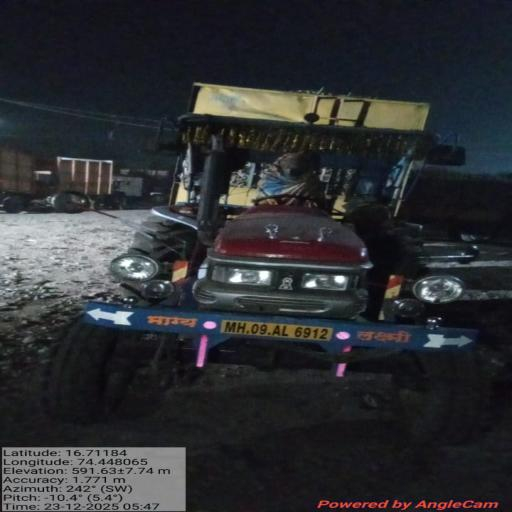number_plate: (221, 320, 332, 340)
